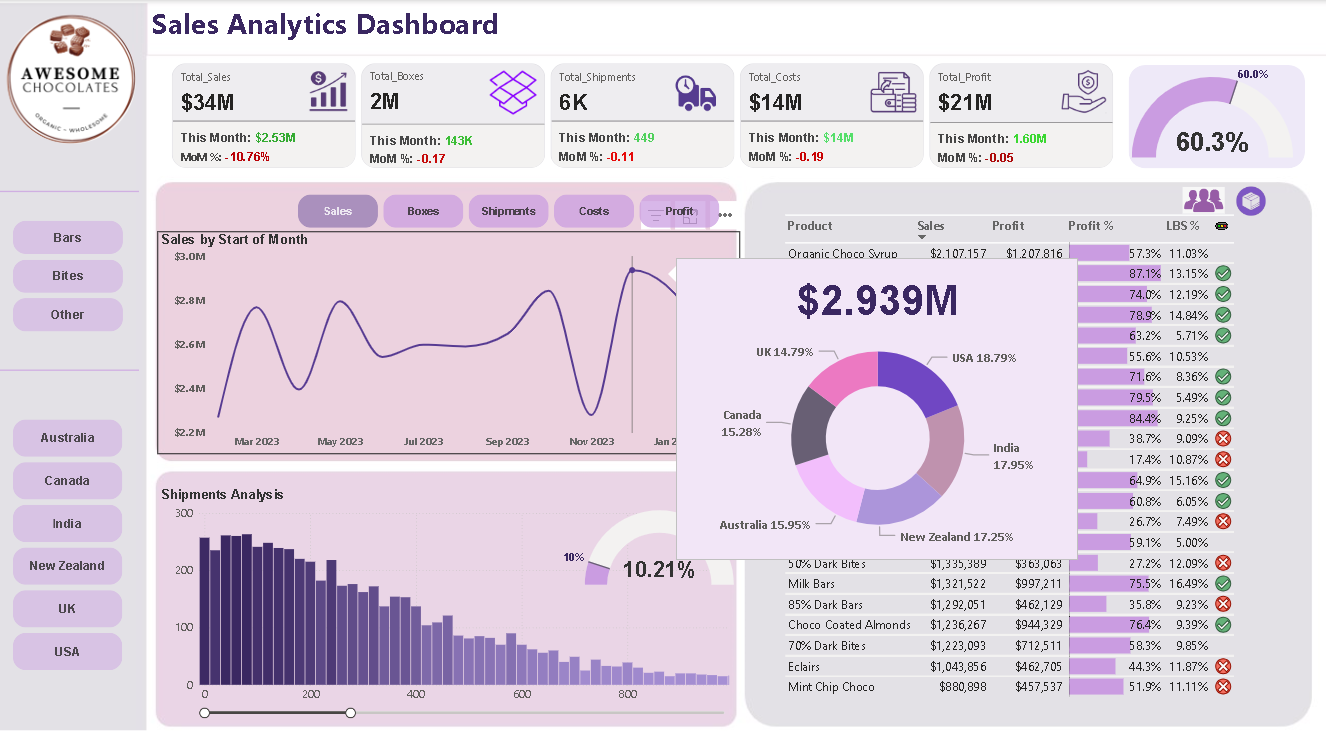

Layout of this report page (visuals, bound fields, positions):
{"tool":"powerbi","page":{"name":"Page 1","canvas":[2000,1100],"ordinal":0},"visuals":[{"type":"image","box":[0,0,2000.4,1100.3],"z":500},{"type":"cardVisual","title":"Sales","fields":{"Data":["_Mesures.Total_Sales","_Mesures.Total_Boxes","_Mesures.Total_Shipments","_Mesures.Total_Costs","_Mesures.Total_Profit"]},"box":[258.4,90.4,1425.5,168],"z":1000},{"type":"lineChart","fields":{"Y":["_Mesures.Total_Sales"],"Category":["calendar.Start of Month"]},"box":[241.2,346.7,876.4,335.9],"z":3000},{"type":"advancedSlicerVisual","fields":{"Values":["Measure_Selector.Measure_Selector"]},"box":[447.9,286.4,646,60.3],"z":4000},{"type":"columnChart","title":"    Shipments Analysis","fields":{"Category":["shipments.Boxes (bins)"],"Y":["_Mesures.Total_Shipments"]},"box":[241.2,730,869.9,351],"z":5000},{"type":"shape","box":[1699,96.9,264.9,155],"z":6000},{"type":"gauge","fields":{"Y":["_Mesures.Profit%"]},"box":[1699,75.4,251.9,176.6],"z":7000},{"type":"gauge","fields":{"Y":["_Mesures.LBS_%"]},"box":[841,730.1,270.2,184.3],"z":8000},{"type":"tableEx","title":"product table","fields":{"Values":["products.Product","_Mesures.Total_Sales","_Mesures.Total_Profit","_Mesures.Profit%","_Mesures.LBS_%","_Mesures.Profit_Target_Indicator"]},"box":[1177.9,316.5,773,755.8],"z":9000},{"type":"image","title":"users","box":[1772.2,275.6,79.7,49.5],"z":10000},{"type":"image","title":"product ","box":[1851.9,269.2,60.3,62.4],"z":11000},{"type":"advancedSlicerVisual","fields":{"Values":["products.Category"]},"box":[21.5,325.7,175.4,177.1],"z":12000},{"type":"advancedSlicerVisual","fields":{"Values":["shipments.Geography"]},"box":[21.5,624.5,174.4,391.9],"z":13000},{"type":"shape","box":[0,502.8,214.7,105.6],"z":14000},{"type":"image","box":[10.5,2.1,203.6,233],"z":15000},{"type":"textbox","box":[229,0,1470.9,96.6],"z":16000},{"type":"shape","box":[0,234.4,214.7,105.6],"z":17000}]}

Visuals, with their boxes in screenshot pixels (x1, y1, x2, y2), scaled from the page's 2000x1100 canvas onto the 1326x732 screenshot:
image: <box>0,0,1325,731</box>
"Sales" cardVisual: <box>171,60,1116,172</box>
lineChart - _Mesures.Total_Sales x calendar.Start of Month: <box>160,231,741,454</box>
advancedSlicerVisual - Measure_Selector.Measure_Selector: <box>297,191,725,231</box>
"    Shipments Analysis" columnChart: <box>160,486,737,719</box>
shape: <box>1126,64,1302,168</box>
gauge - _Mesures.Profit%: <box>1126,50,1293,168</box>
gauge - _Mesures.LBS_%: <box>558,486,737,608</box>
"product table" tableEx: <box>781,211,1293,714</box>
"users" image: <box>1175,183,1228,216</box>
"product " image: <box>1228,179,1268,221</box>
advancedSlicerVisual - products.Category: <box>14,217,131,335</box>
advancedSlicerVisual - shipments.Geography: <box>14,416,130,676</box>
shape: <box>0,335,142,405</box>
image: <box>7,1,142,156</box>
textbox: <box>152,0,1127,64</box>
shape: <box>0,156,142,226</box>
